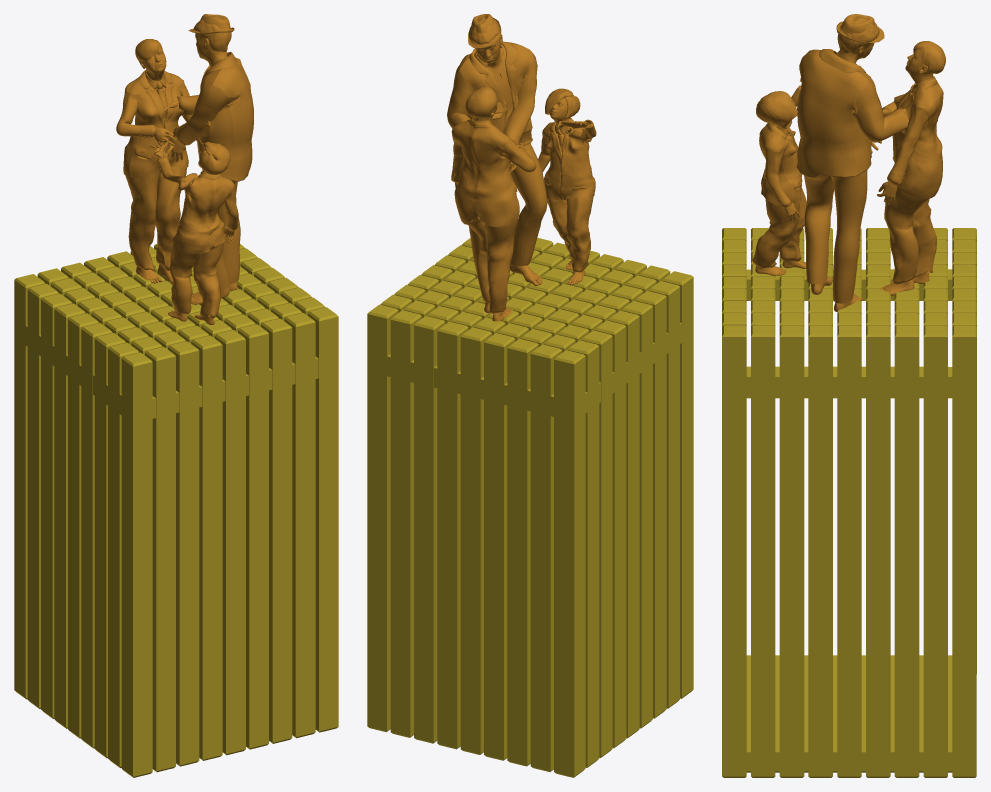
File: me_anh_hung_k.gltf
The picture shows the model from 3 angles, left to right: view 1: azimuth 30°, elevation 25°; view 2: azimuth 150°, elevation 25°; view 3: azimuth 270°, elevation 25°; orthographic projection. The views are drawn at different scales.
Visible parts, largest first — view 1: Knife_Block_Small, Female_old:Body, Male_young:Body, Female_child:Body; view 2: Knife_Block_Small, Female_old:Body, Male_young:Body, Female_child:Body; view 3: Knife_Block_Small, Male_young:Body, Female_old:Body, Female_child:Body.
Boxes of the visible parts, x1=… form: Knife_Block_Small: x1=14, y1=244, x2=338, y2=777; Female_old:Body: x1=116, y1=39, x2=196, y2=283; Male_young:Body: x1=164, y1=14, x2=253, y2=304; Female_child:Body: x1=149, y1=139, x2=238, y2=324; Knife_Block_Small: x1=367, y1=237, x2=693, y2=777; Female_old:Body: x1=451, y1=86, x2=536, y2=321; Male_young:Body: x1=447, y1=14, x2=547, y2=288; Female_child:Body: x1=538, y1=88, x2=596, y2=284; Knife_Block_Small: x1=722, y1=228, x2=976, y2=777; Male_young:Body: x1=796, y1=14, x2=908, y2=311; Female_old:Body: x1=877, y1=41, x2=945, y2=295; Female_child:Body: x1=752, y1=85, x2=806, y2=275.
Size of the model in its own units: 13 by 41.17 by 13.
